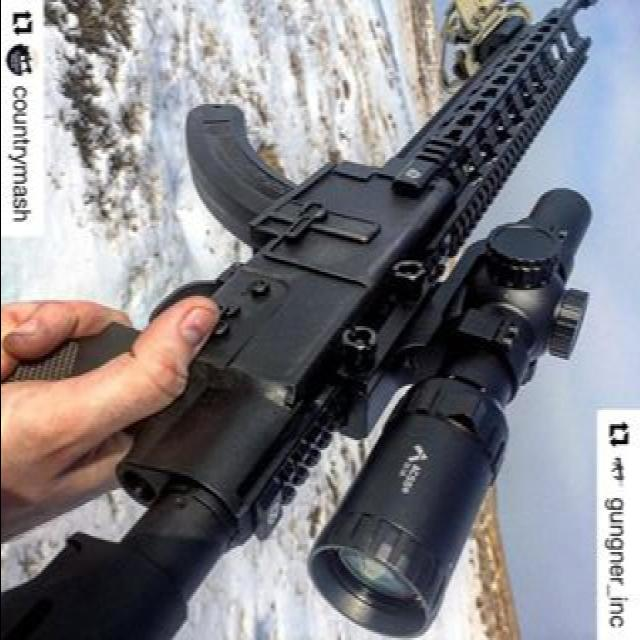rifle: (4, 1, 600, 625)
